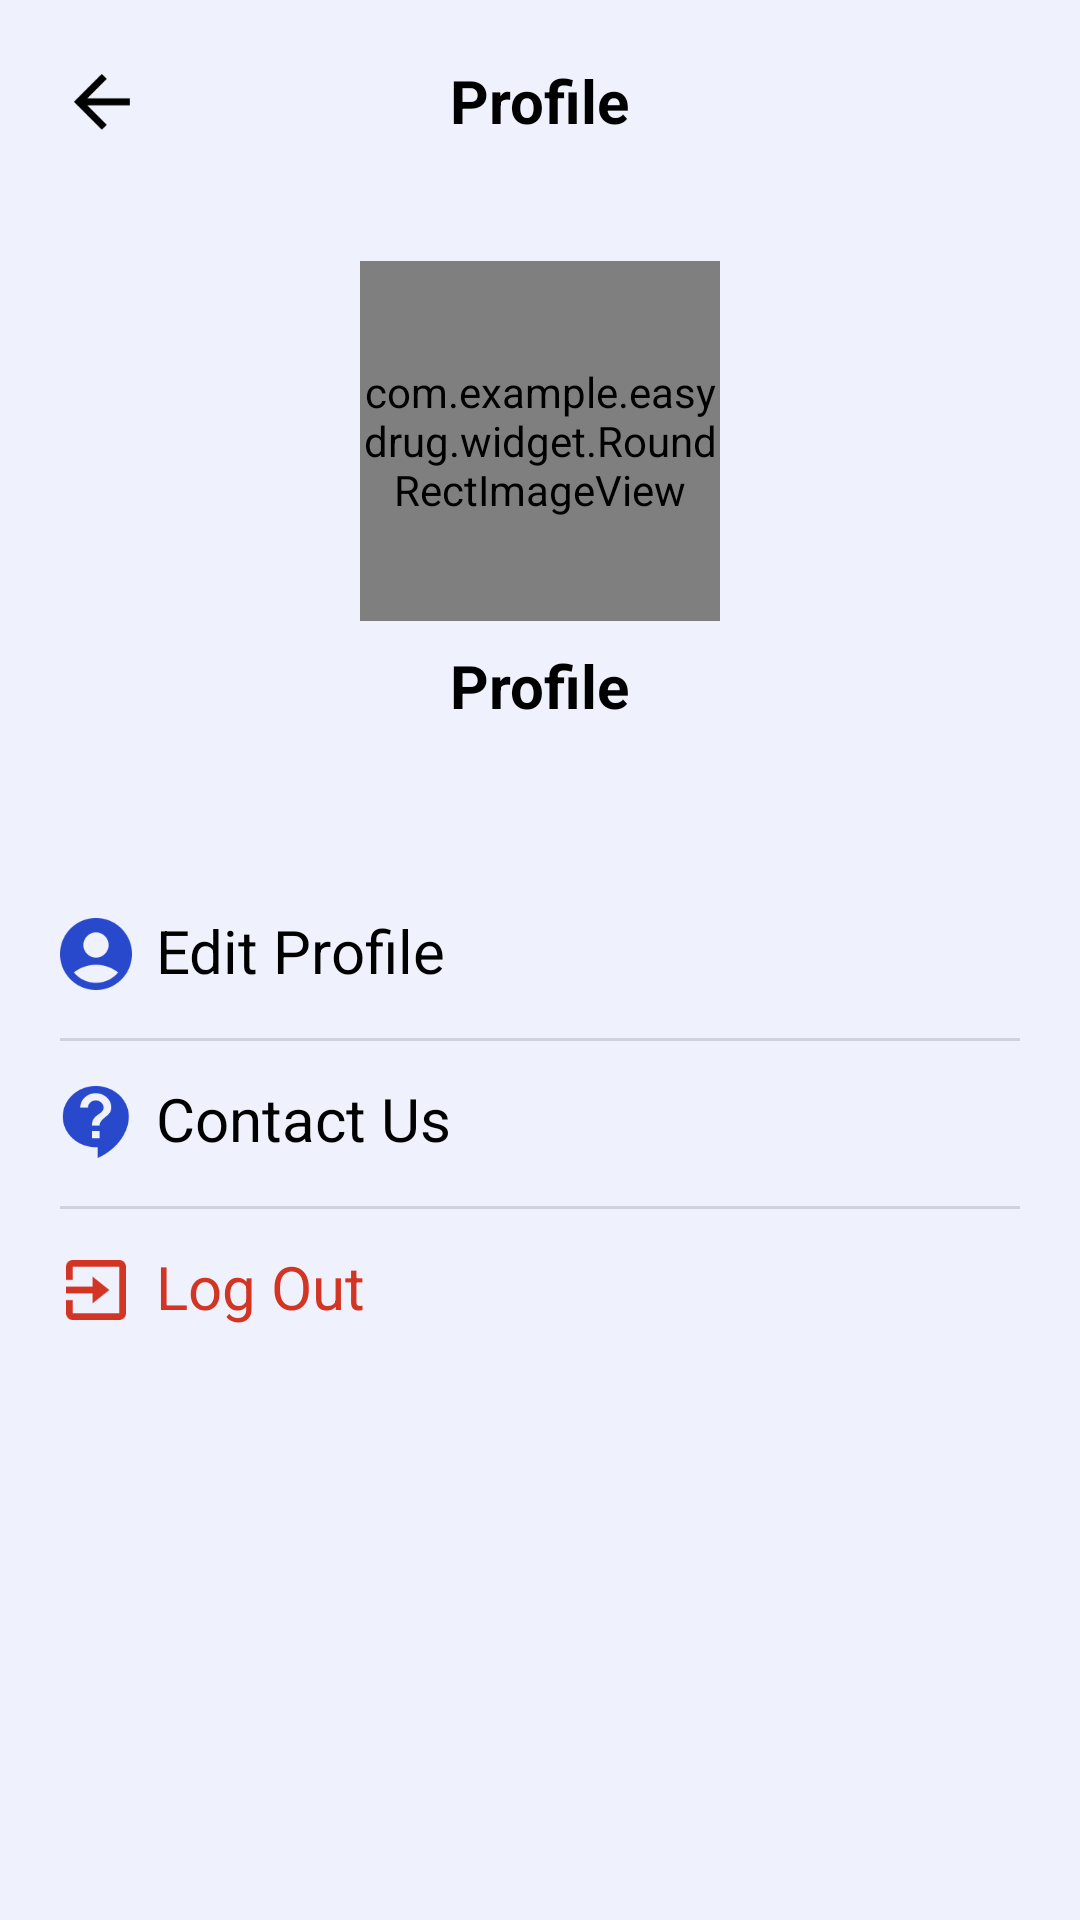

Icons on this 1080 x 1920 Android screen, each with its box as (x1, y1, x2, y2):
back: (74, 74, 130, 130)
